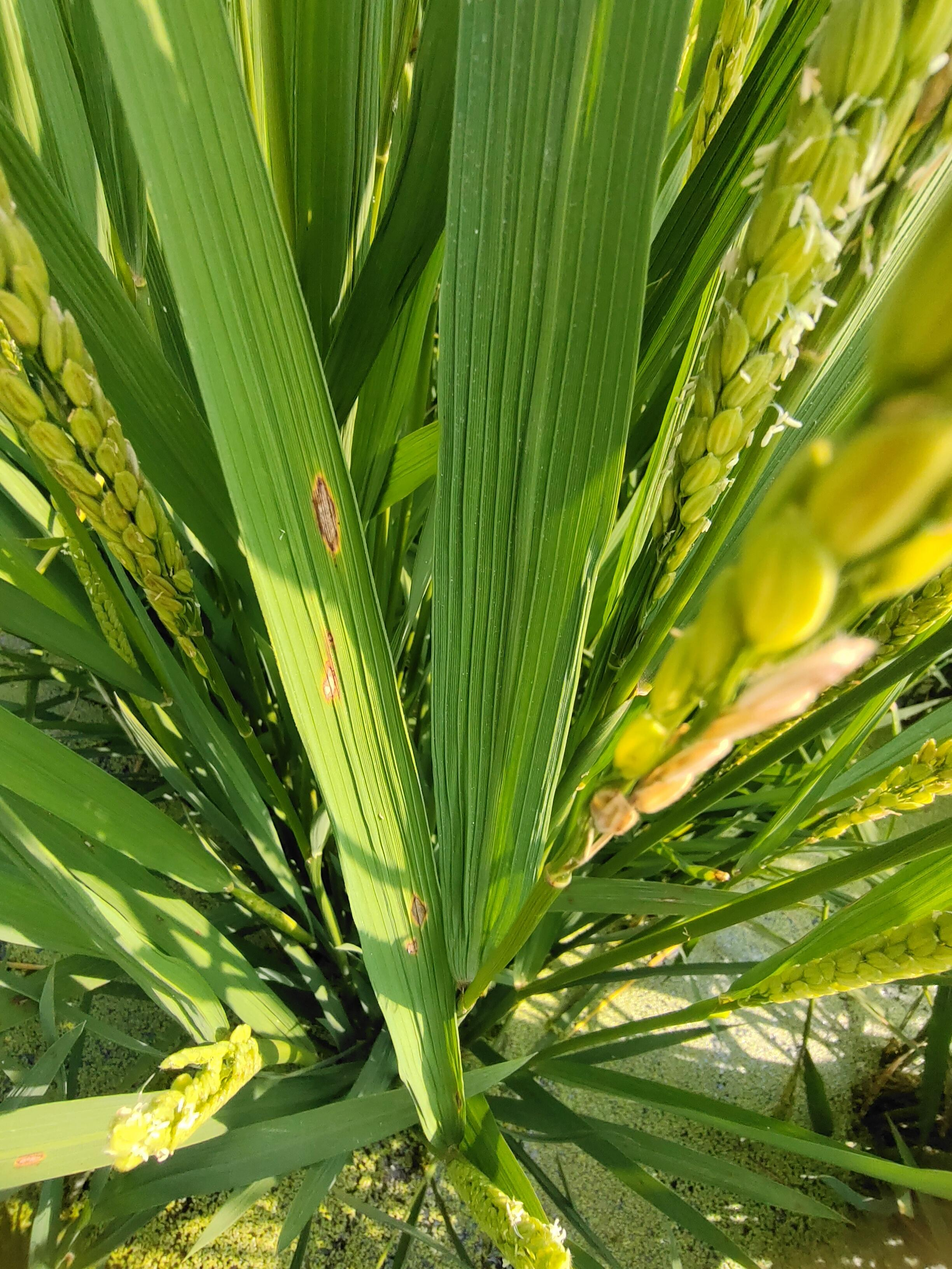LEAF BLAST: (312, 473, 340, 555), (322, 660, 338, 702), (411, 893, 427, 928), (405, 939, 418, 954), (326, 630, 334, 650), (325, 689, 329, 695)
